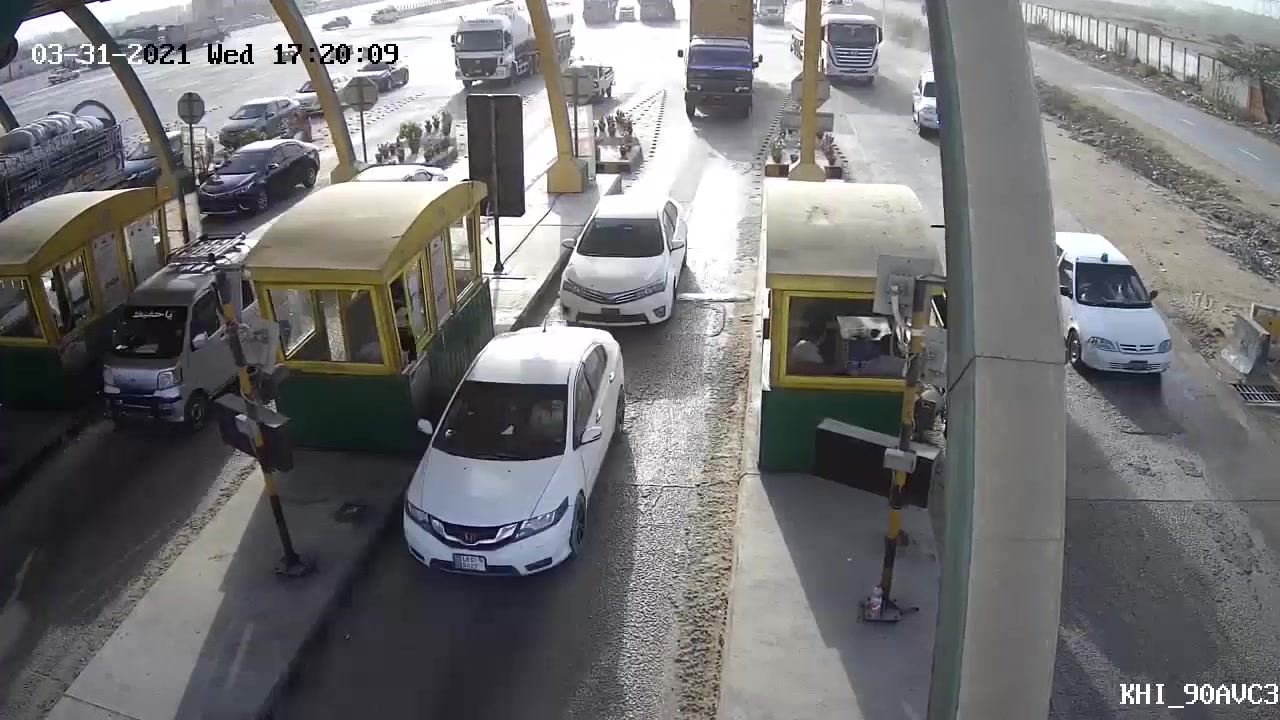F1: (381, 320, 634, 592), (554, 187, 694, 333)
